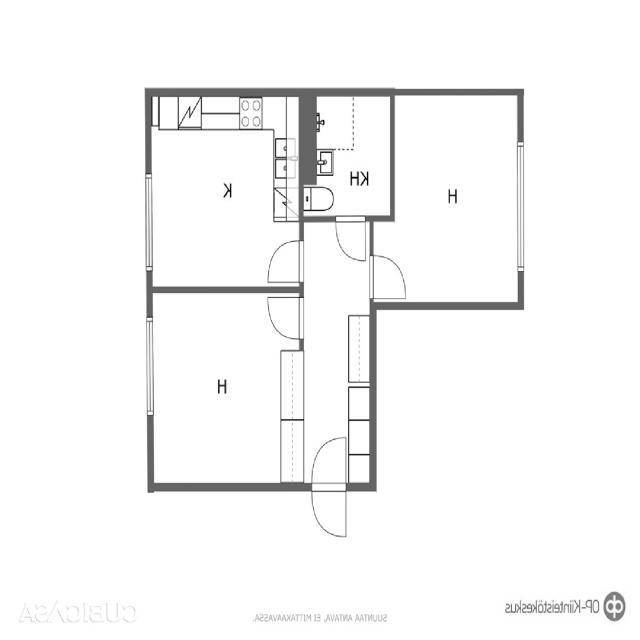door: (369, 252, 410, 302), (264, 292, 304, 343), (263, 238, 304, 286), (334, 213, 369, 265)
window: (512, 133, 530, 277), (142, 169, 155, 275), (143, 314, 156, 418)
zone: (372, 90, 522, 310), (148, 290, 303, 488), (147, 95, 300, 292), (300, 218, 372, 488), (299, 92, 392, 220), (306, 430, 352, 544)
